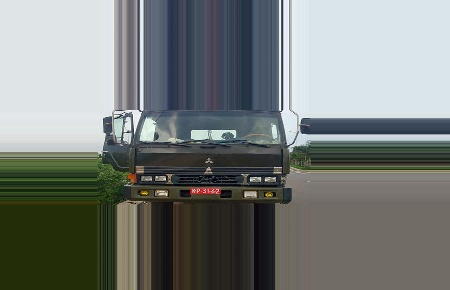plate: (189, 186, 221, 196)
